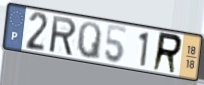1: (137, 31, 152, 68)
2: (24, 11, 50, 53)
5: (104, 22, 129, 66)
Q: (76, 21, 103, 62)
R: (151, 31, 184, 76), (49, 14, 78, 58)
